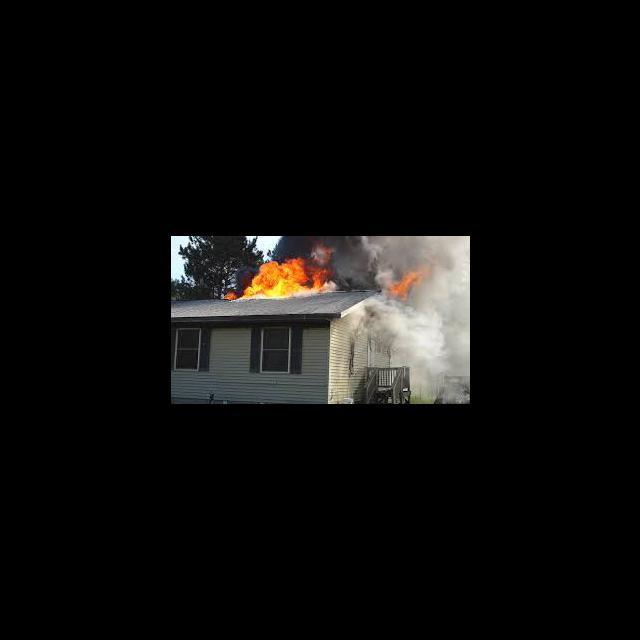Fire: (221, 255, 336, 302), (388, 269, 428, 298)
Smoke: (363, 300, 468, 387), (337, 238, 387, 292), (428, 236, 469, 299), (388, 236, 427, 268)
